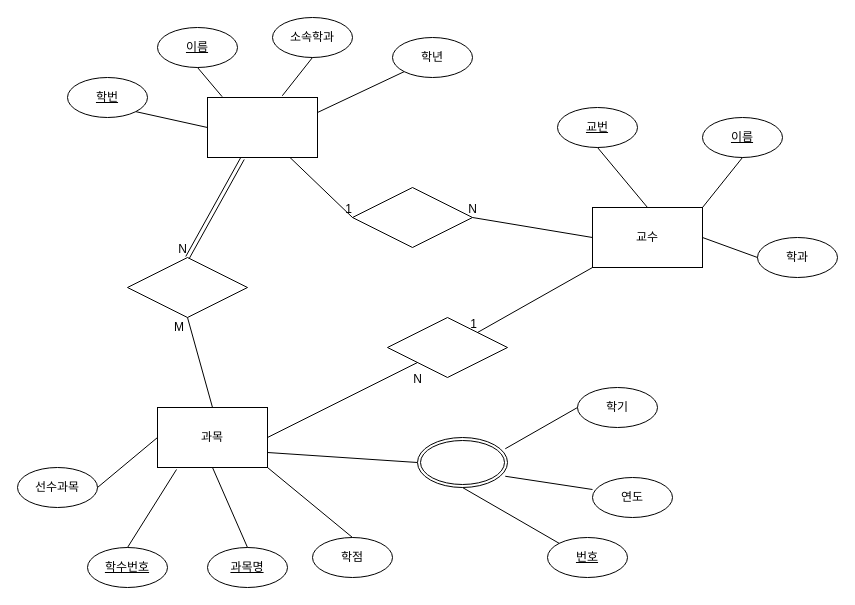
This 855x605 diagram has some shape labels left out. Here are the shapes that lost their labels. From the top down, the centre of each, then its label:
At (x=262, y=127): "학생".
At (x=412, y=217): "지도".
At (x=187, y=287): "수강".
At (x=447, y=347): "강의".
At (x=462, y=462): "분반".
